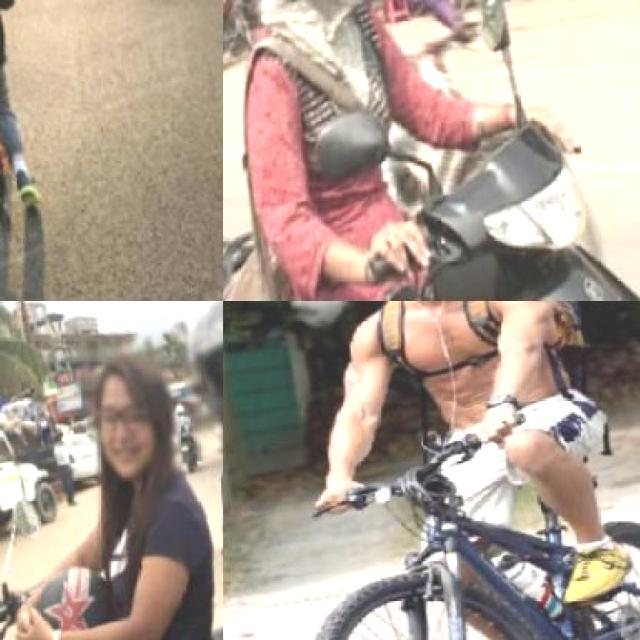With Helmet: (163, 300, 222, 465), (251, 0, 394, 45)
Without Helmet: (73, 329, 184, 489)
